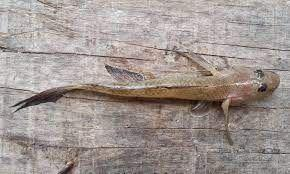Goby: (12, 49, 290, 136)
